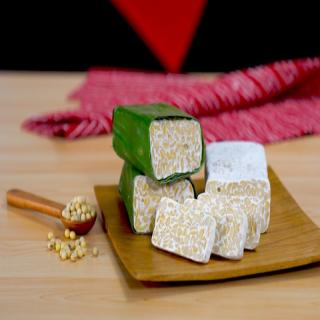Tempe: (205, 141, 272, 235), (119, 161, 196, 235), (152, 197, 217, 264), (197, 192, 248, 261)
